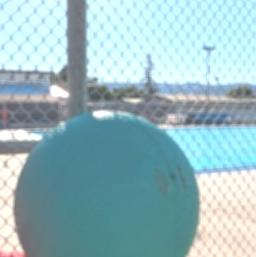algae: (10, 107, 204, 257)
